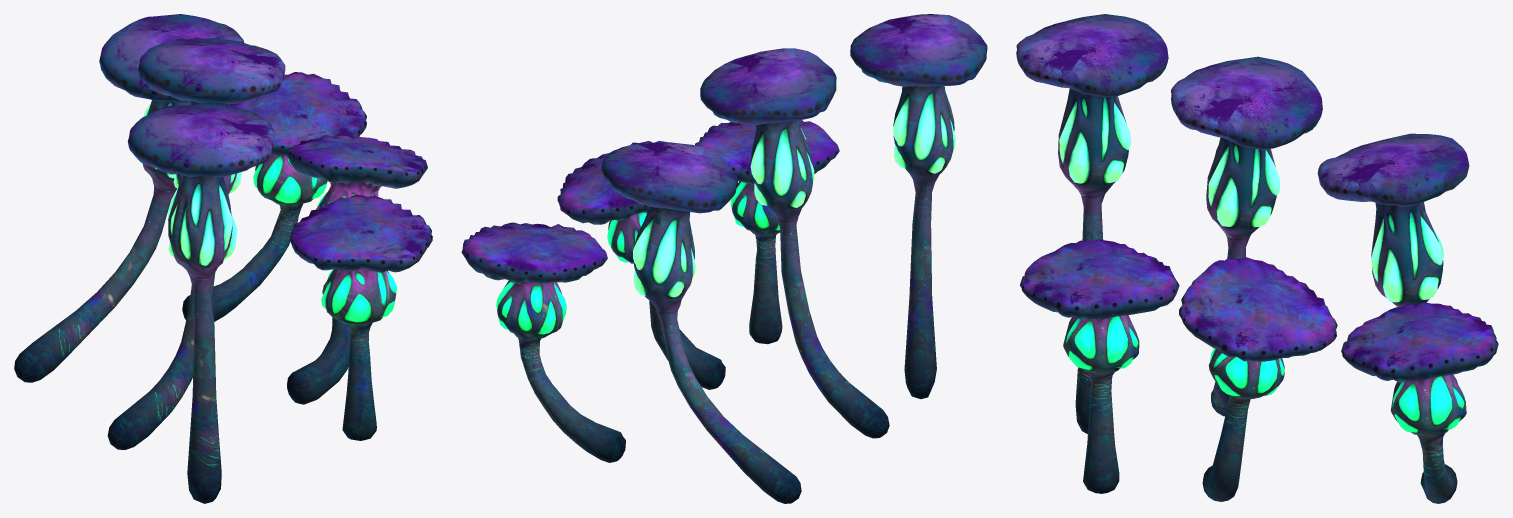
File: Reaper's Wineglass.fbx
3 renders of one model, left to right at view 1: azimuth 30°, elevation 25°; view 2: azimuth 150°, elevation 25°; view 3: azimuth 270°, elevation 25°, orthographic. The views are drawn at different scales.
Visible parts, largest first — view 1: lillipads_bubble_mushroom_big_LOD0, lillipads_bubble_mushroom_small_LOD0, lillipads_bubble_mushroom_big_curved_b_LOD0, lillipads_bubble_mushroom_big_curved_a_LOD0, lillipads_bubble_mushroom_small_curved_a_LOD0, lillipads_bubble_mushroom_small_curved_b_LOD0; view 2: lillipads_bubble_mushroom_big_curved_b_LOD0, lillipads_bubble_mushroom_big_curved_a_LOD0, lillipads_bubble_mushroom_big_LOD0, lillipads_bubble_mushroom_small_curved_a_LOD0, lillipads_bubble_mushroom_small_LOD0, lillipads_bubble_mushroom_small_curved_b_LOD0; view 3: lillipads_bubble_mushroom_small_curved_b_LOD0, lillipads_bubble_mushroom_big_LOD0, lillipads_bubble_mushroom_big_curved_b_LOD0, lillipads_bubble_mushroom_small_LOD0, lillipads_bubble_mushroom_small_curved_a_LOD0, lillipads_bubble_mushroom_big_curved_a_LOD0.
Part boxes in pixels (x1,y1,x2,y2): lillipads_bubble_mushroom_big_LOD0: (127, 103, 275, 503); lillipads_bubble_mushroom_small_LOD0: (290, 195, 432, 440); lillipads_bubble_mushroom_big_curved_b_LOD0: (107, 38, 285, 449); lillipads_bubble_mushroom_big_curved_a_LOD0: (14, 14, 244, 382); lillipads_bubble_mushroom_small_curved_a_LOD0: (182, 72, 366, 321); lillipads_bubble_mushroom_small_curved_b_LOD0: (286, 135, 427, 404); lillipads_bubble_mushroom_big_curved_b_LOD0: (700, 48, 889, 438); lillipads_bubble_mushroom_big_curved_a_LOD0: (601, 142, 801, 503); lillipads_bubble_mushroom_big_LOD0: (850, 14, 987, 399); lillipads_bubble_mushroom_small_curved_a_LOD0: (461, 222, 625, 462); lillipads_bubble_mushroom_small_LOD0: (695, 120, 839, 344); lillipads_bubble_mushroom_small_curved_b_LOD0: (557, 141, 725, 389); lillipads_bubble_mushroom_small_curved_b_LOD0: (1179, 257, 1337, 501); lillipads_bubble_mushroom_big_LOD0: (1016, 14, 1168, 434); lillipads_bubble_mushroom_big_curved_b_LOD0: (1171, 56, 1322, 416); lillipads_bubble_mushroom_small_LOD0: (1020, 239, 1179, 493); lillipads_bubble_mushroom_small_curved_a_LOD0: (1341, 302, 1498, 503); lillipads_bubble_mushroom_big_curved_a_LOD0: (1317, 133, 1469, 306).
Bounding box in the file's own units: 590 × 581 × 634.
